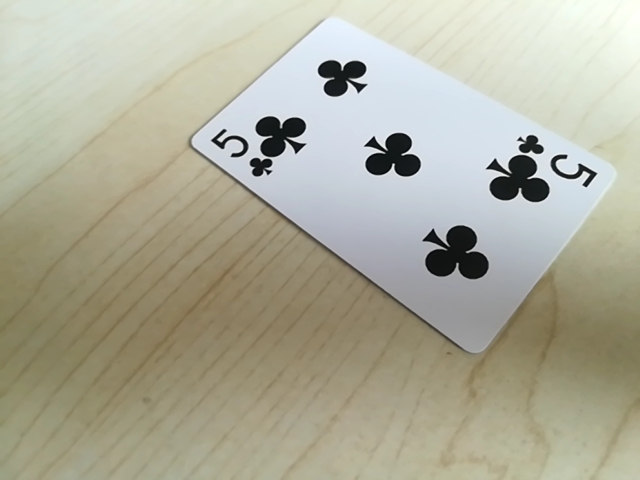mh 5: (516, 138, 601, 193), (206, 127, 282, 181)
